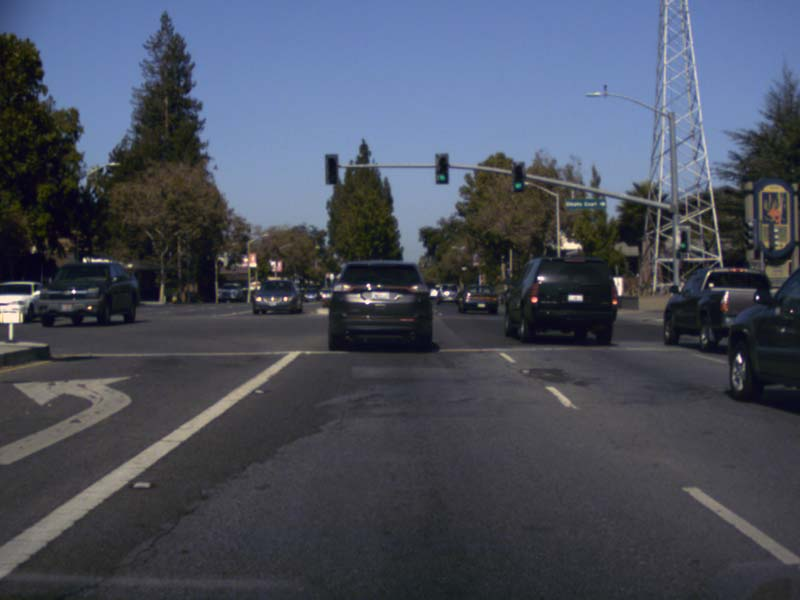Green: (435, 153, 448, 183), (512, 163, 524, 191), (680, 231, 687, 251)
